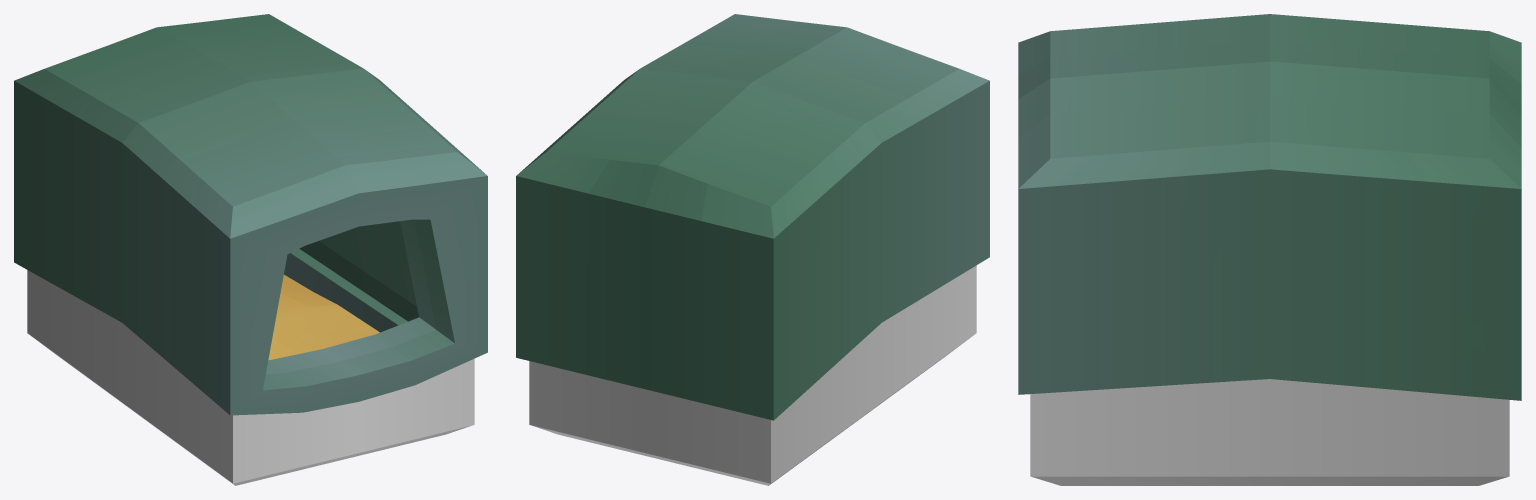
File: sp_sandbox_kitchen_a.fbx
The picture shows the model from 3 angles, left to right: view 1: azimuth 30°, elevation 25°; view 2: azimuth 150°, elevation 25°; view 3: azimuth 270°, elevation 25°; orthographic projection. The views are drawn at different scales.
Visible parts, largest first — view 1: sp_sandbox_kitchen_a; view 2: sp_sandbox_kitchen_a; view 3: sp_sandbox_kitchen_a.
Part boxes in pixels (<box>): sp_sandbox_kitchen_a: <box>14,14,487,485</box>; sp_sandbox_kitchen_a: <box>516,14,989,485</box>; sp_sandbox_kitchen_a: <box>1018,14,1521,485</box>.
Bounding box in the file's own units: 68.97 × 80.08 × 100.
